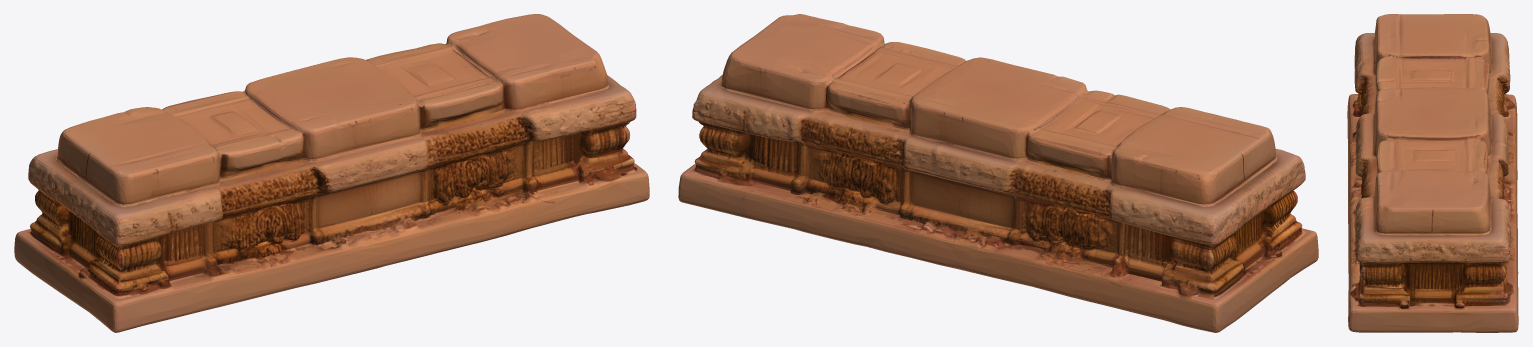
Rendered from carved-sandstone-wall-base-optimized.glb.
3 renders of one model, left to right at view 1: azimuth 30°, elevation 25°; view 2: azimuth 150°, elevation 25°; view 3: azimuth 270°, elevation 25°, orthographic. The views are drawn at different scales.
Parts seen in each view (by area): view 1: 19775f29-b56a-409e-a1a0-8d2fc14c9399_texturing.obj; view 2: 19775f29-b56a-409e-a1a0-8d2fc14c9399_texturing.obj; view 3: 19775f29-b56a-409e-a1a0-8d2fc14c9399_texturing.obj.
Part boxes in pixels (box(x1,y1,x2,y2)): 19775f29-b56a-409e-a1a0-8d2fc14c9399_texturing.obj: box(14, 14, 649, 332); 19775f29-b56a-409e-a1a0-8d2fc14c9399_texturing.obj: box(678, 14, 1318, 332); 19775f29-b56a-409e-a1a0-8d2fc14c9399_texturing.obj: box(1347, 14, 1518, 332).
Bounding box in the file's own units: 4 × 1.01 × 1.33.
Materials: 1 (1 with a texture image).
